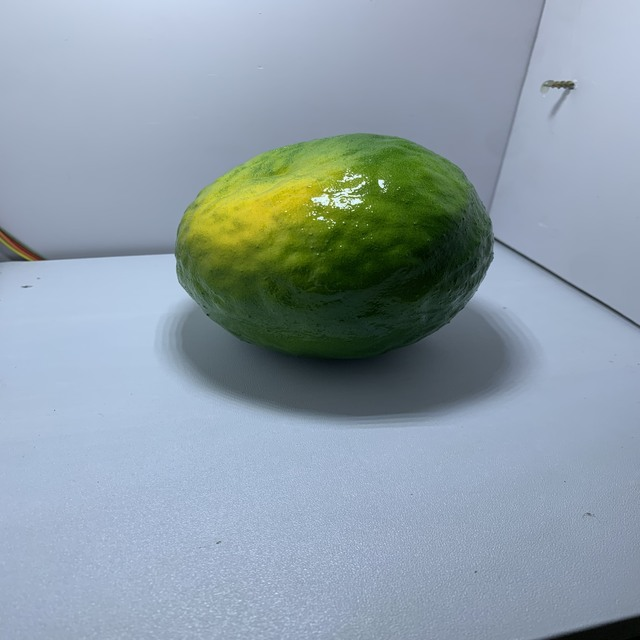Cam xanh: (161, 132, 502, 365)
